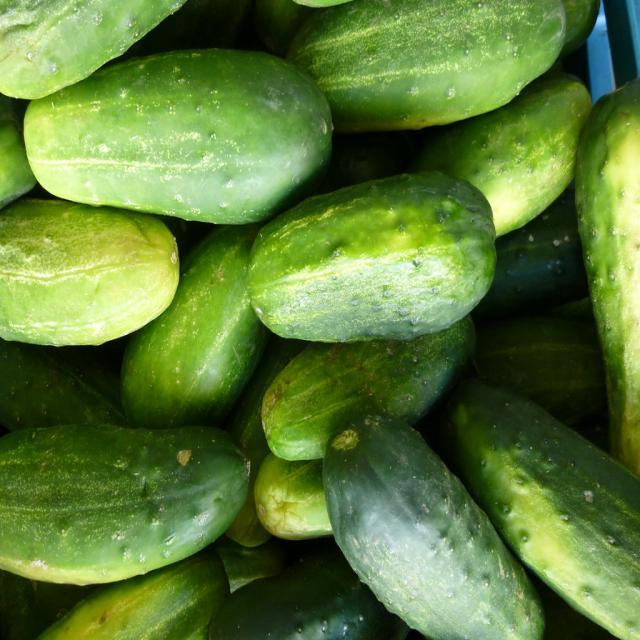Zucchini: (0, 0, 639, 639), (244, 0, 594, 172)
